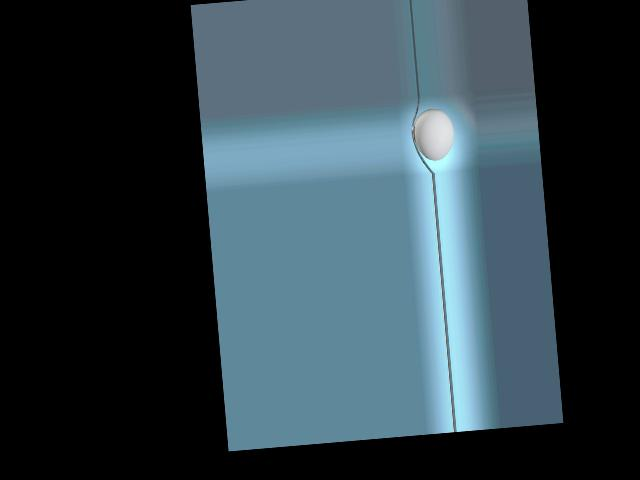egg: (412, 107, 455, 161)
